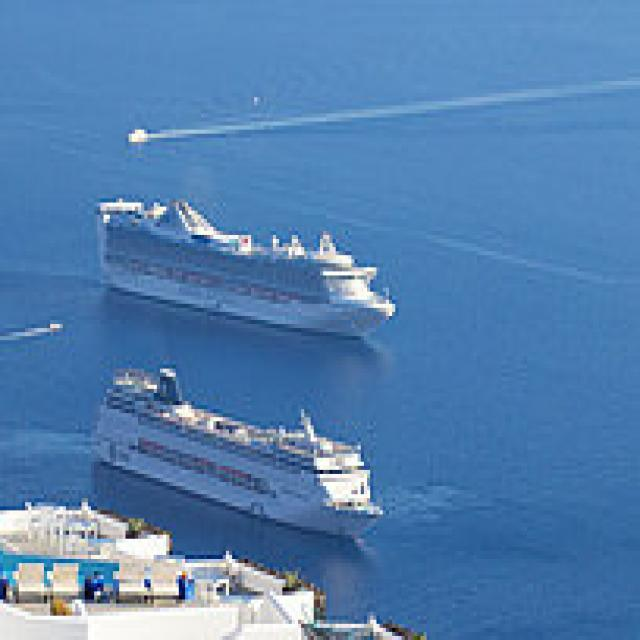Ship: (89, 361, 400, 556), (89, 180, 409, 350)
